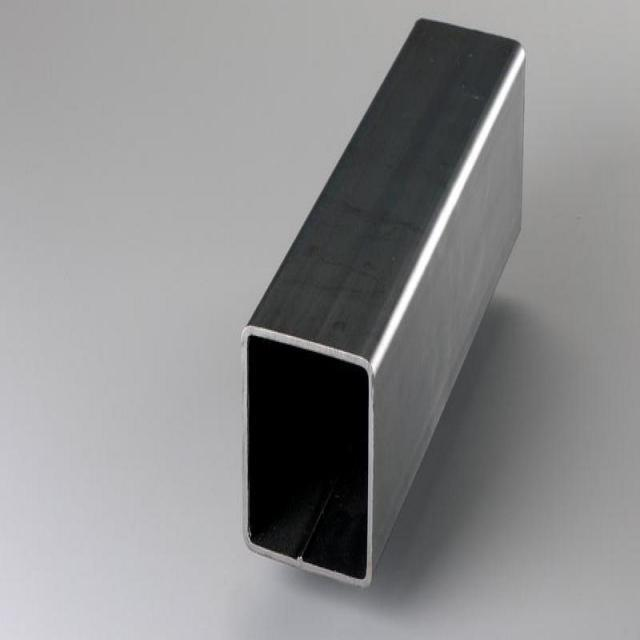pipe: (239, 320, 378, 597)
